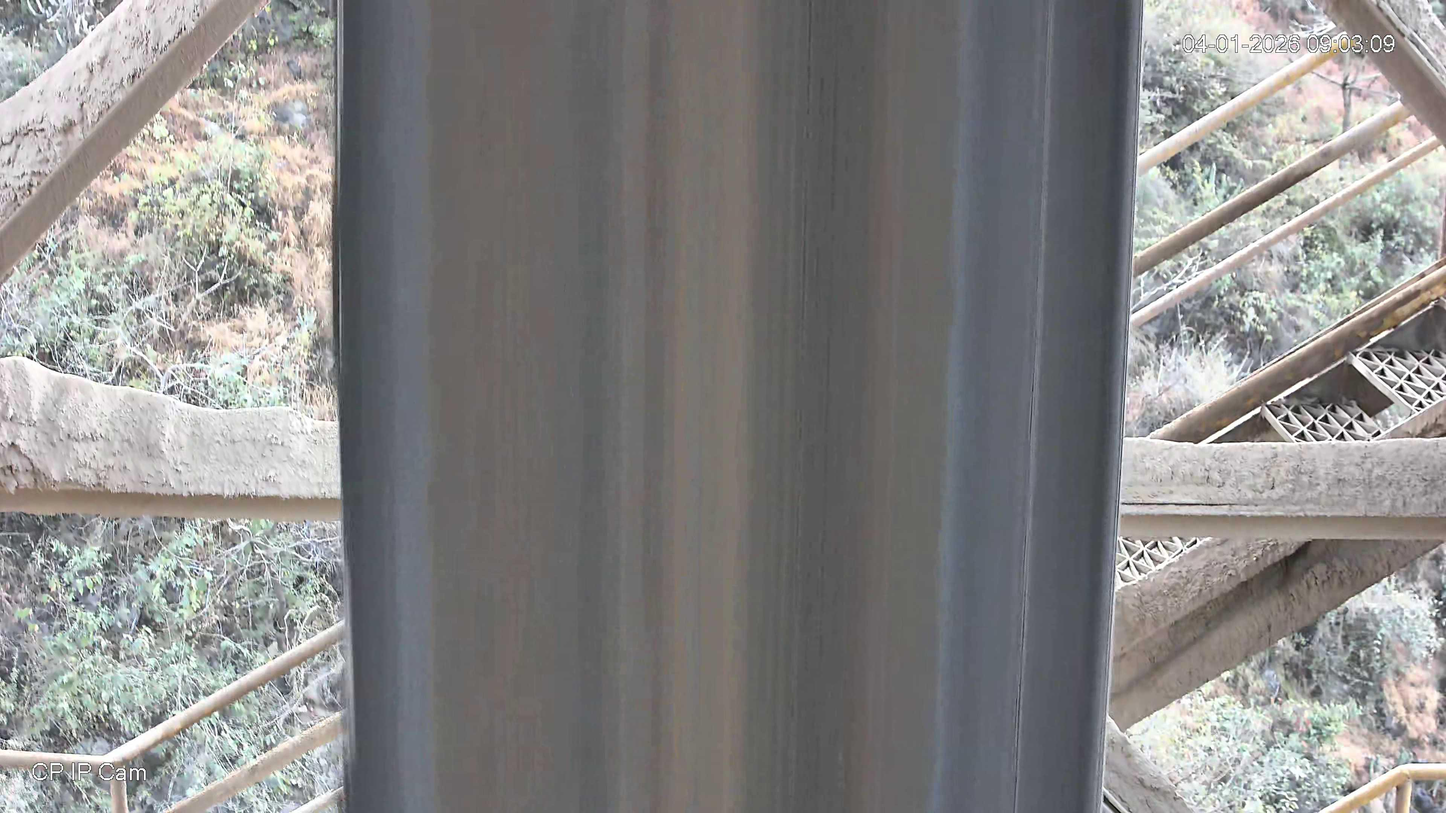belt_roi: (333, 0, 1144, 813)
